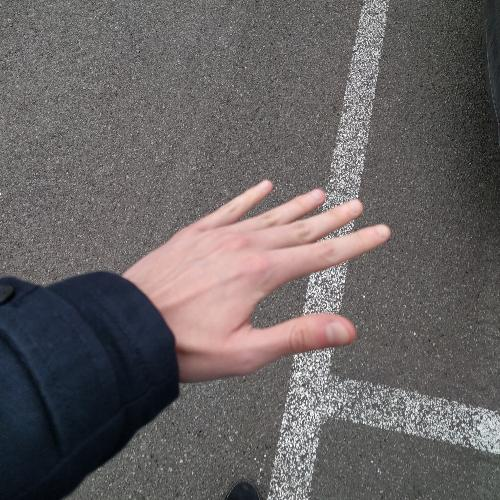paper: (109, 174, 396, 396)
